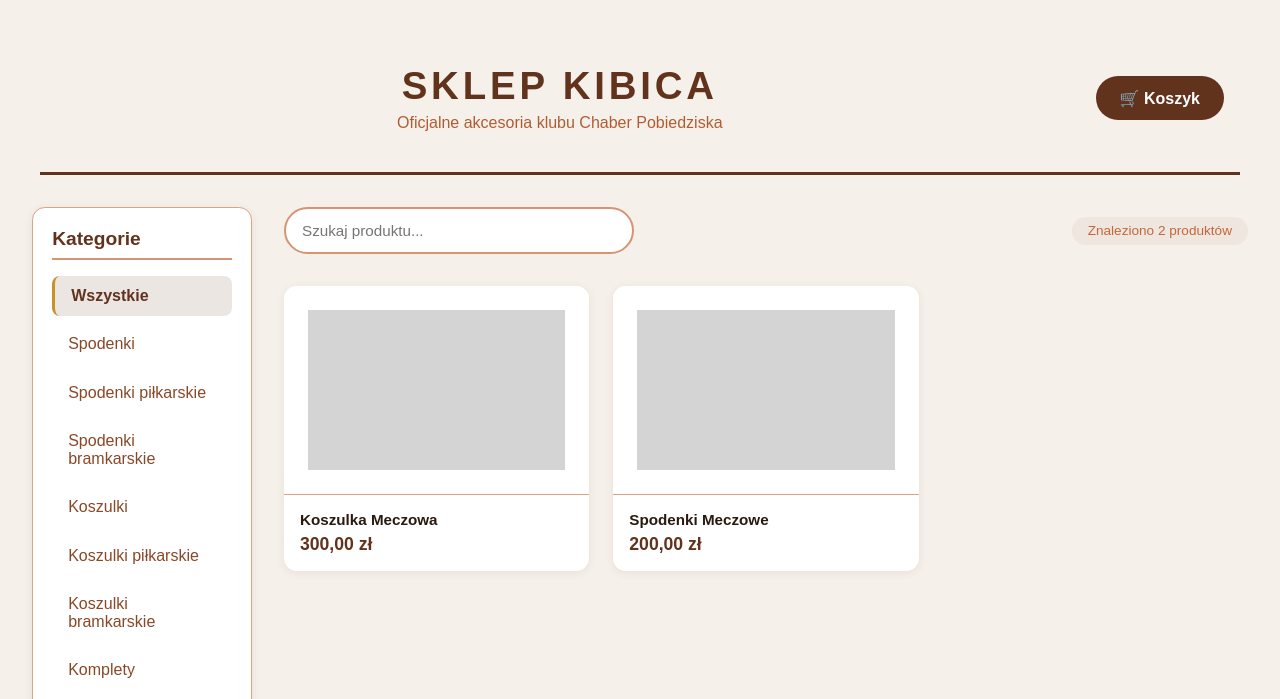
Shop Component › should filter products by search term
Expected: the text "Koszulka Meczowa" is shown, [300, 511, 438, 528]
Type "Koszulka" into the field with placeholder "Szukaj produktu..." at (459, 231), box [284, 207, 634, 254]
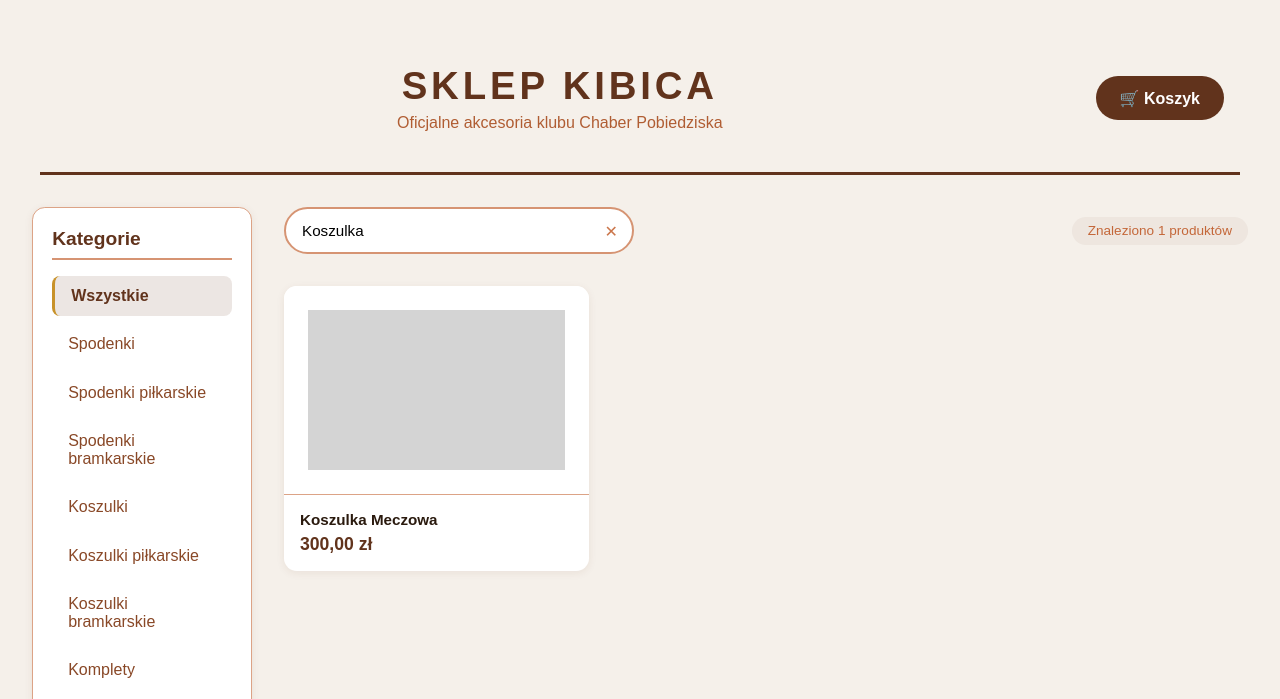
Expected: the text "Koszulka Meczowa" is shown, [300, 511, 438, 528]
Expected: the text "Spodenki Meczowe" is gone
